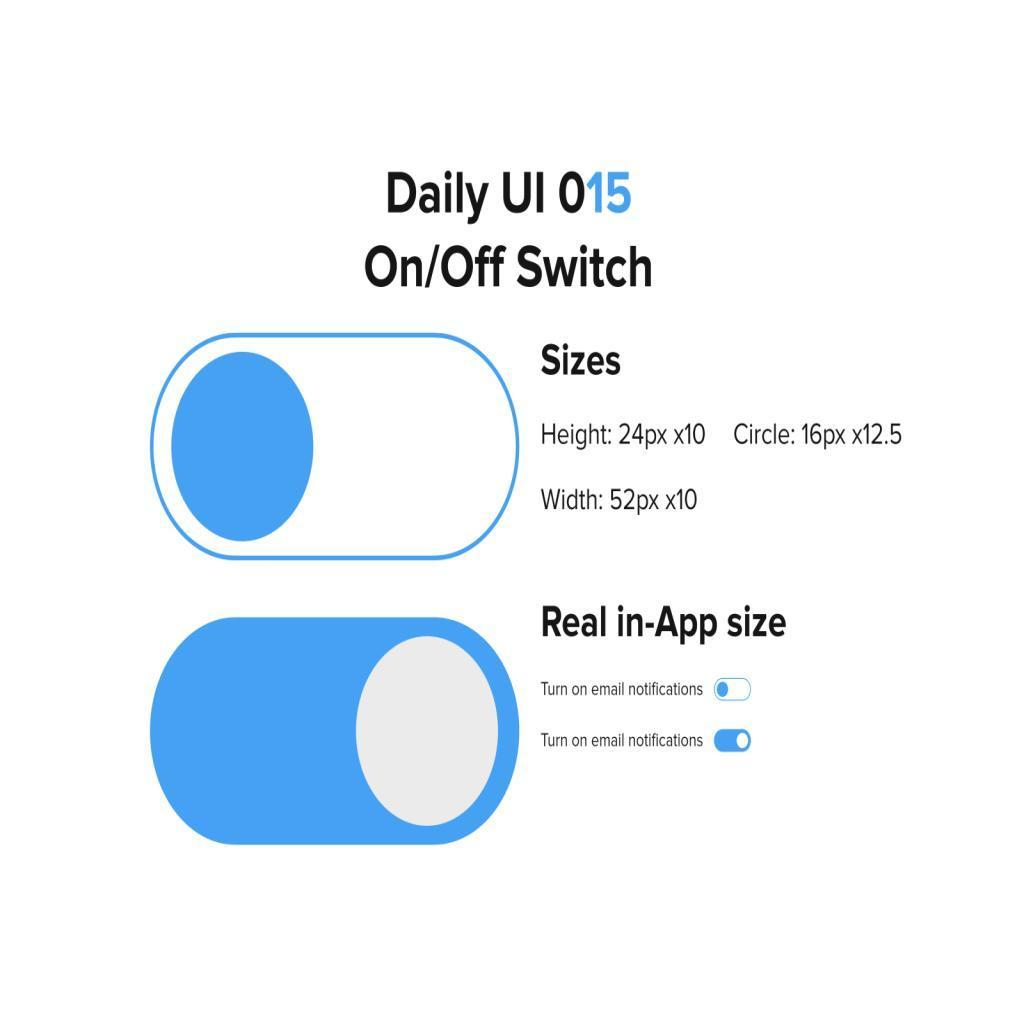switch: (152, 610, 523, 852), (147, 334, 522, 562), (714, 726, 758, 764), (711, 671, 753, 704)
